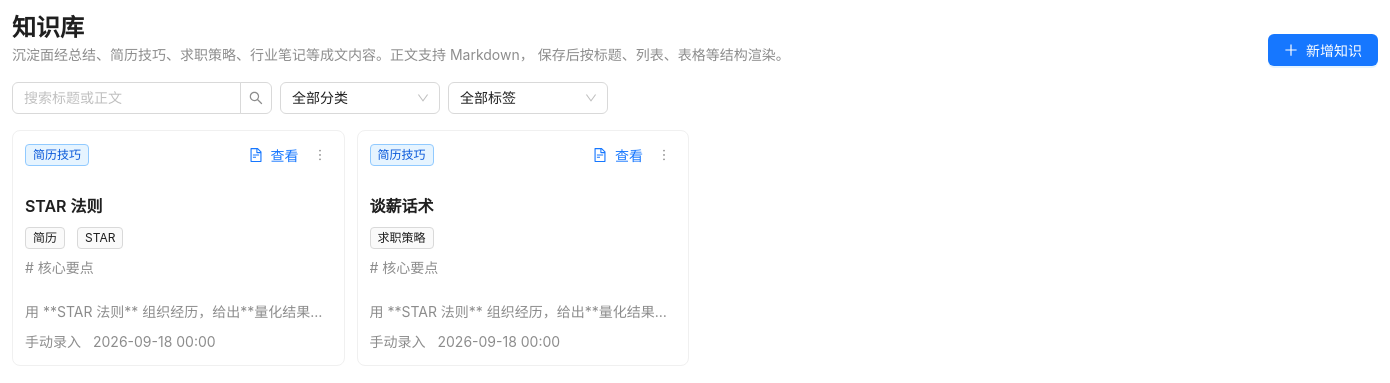
KnowledgePage › filters entries by tag locally
Expected: the heading "STAR 法则" is shown, left=25, top=196, right=103, bottom=216
Expected: the heading "谈薪话术" is shown, left=370, top=196, right=434, bottom=216
Note: 选中「简历」标签后，只保留带该标签的条目。
Press the mouse on the dropdown named "标签筛选" at point(488, 98), box left=460, top=89, right=516, bottom=106
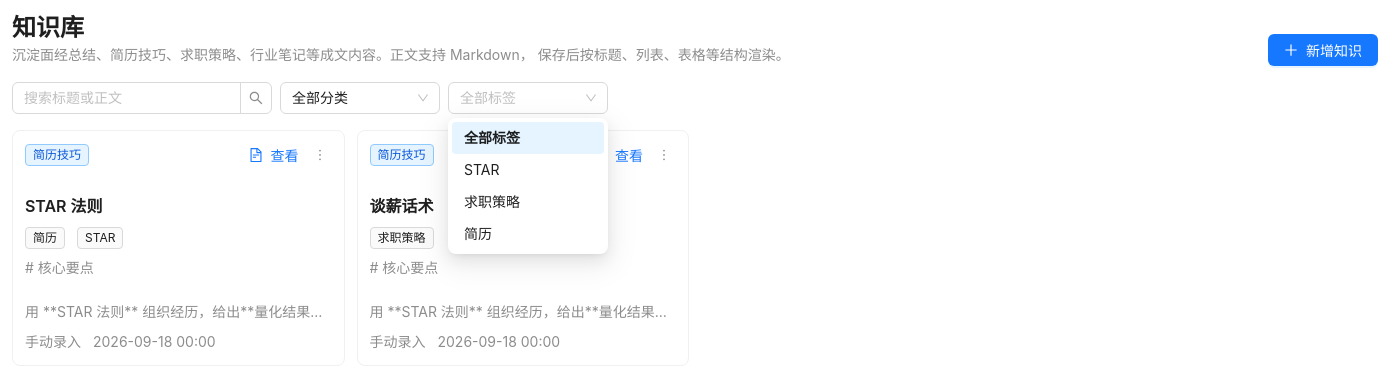
Click the 2nd text "简历" at point(478, 234), box left=464, top=225, right=492, bottom=242
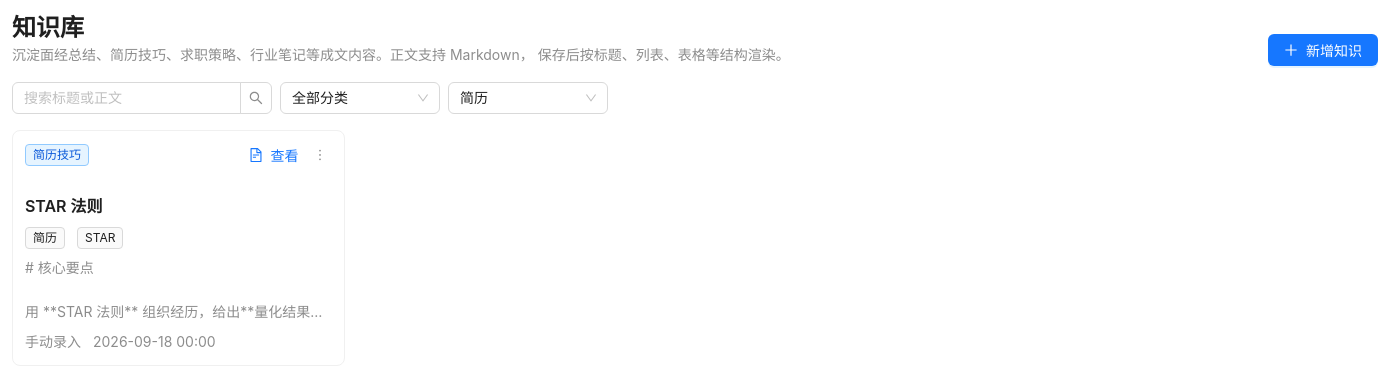
Expected: the heading "STAR 法则" is shown, left=25, top=196, right=103, bottom=216
Result: the button "谈薪话术" is gone
